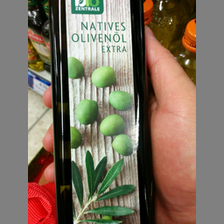oil: (48, 1, 153, 224)
